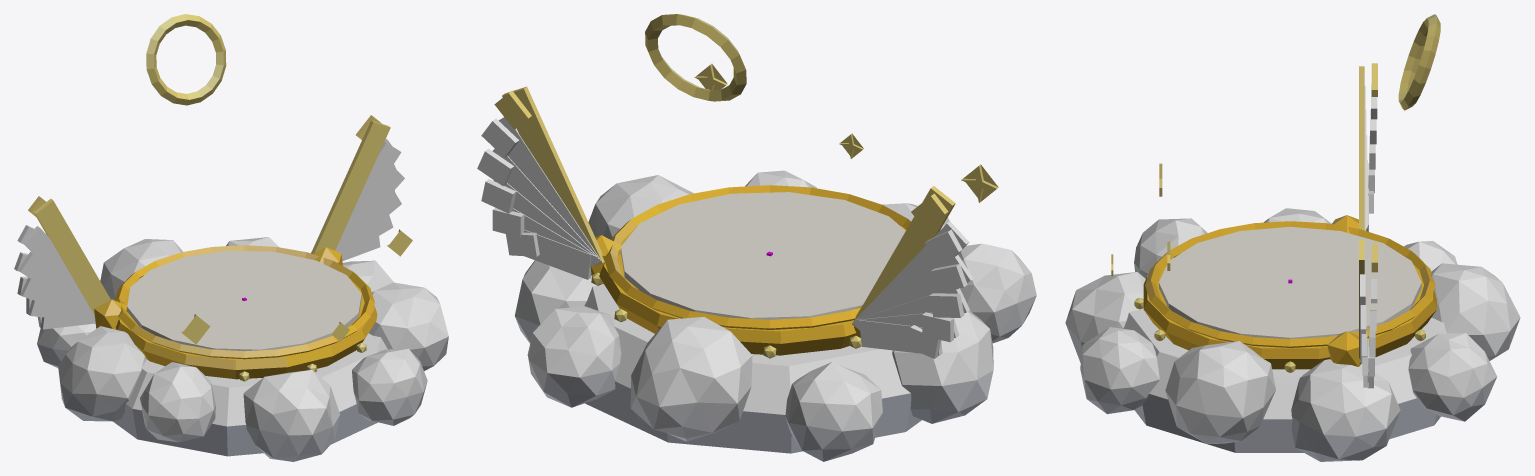
The model's file is Platform_AngelShiba.fbx.
3 renders of one model, left to right at view 1: azimuth 30°, elevation 25°; view 2: azimuth 150°, elevation 25°; view 3: azimuth 270°, elevation 25°, orthographic. The views are drawn at different scales.
Parts seen in each view (by area): view 1: Body; view 2: Body; view 3: Body.
Part boxes in pixels (bbox=[...]): Body: bbox=[14, 14, 448, 461]; Body: bbox=[477, 14, 1036, 461]; Body: bbox=[1065, 14, 1520, 461].
Size of the model in its own units: 12.21 by 9.87 by 11.25.
